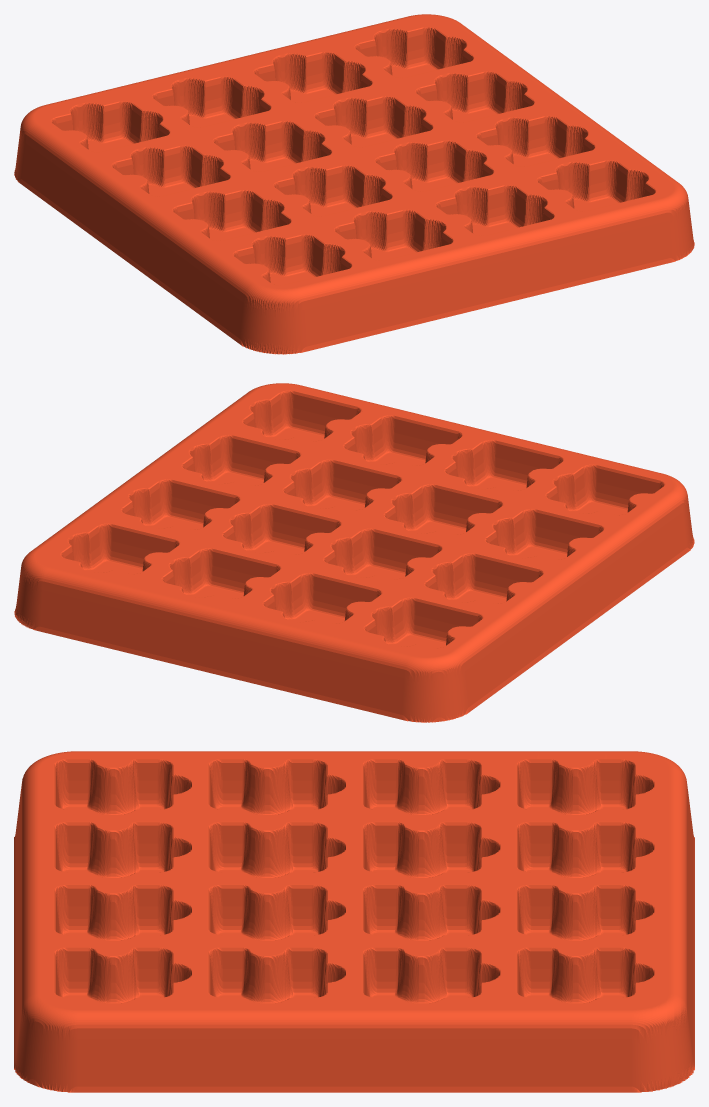
The model's file is mold.glb.
3 renders of one model, top to bottom at view 1: azimuth 30°, elevation 25°; view 2: azimuth 150°, elevation 25°; view 3: azimuth 270°, elevation 25°, orthographic. The views are drawn at different scales.
Visible parts, largest first — view 1: geometry_0; view 2: geometry_0; view 3: geometry_0.
Part boxes in pixels (x1,y1,x2,y2): geometry_0: (14,14,694,354); geometry_0: (14,383,694,722); geometry_0: (14,751,694,1092).
Size of the model in its own units: 0.094 by 0.0114 by 0.0972.
